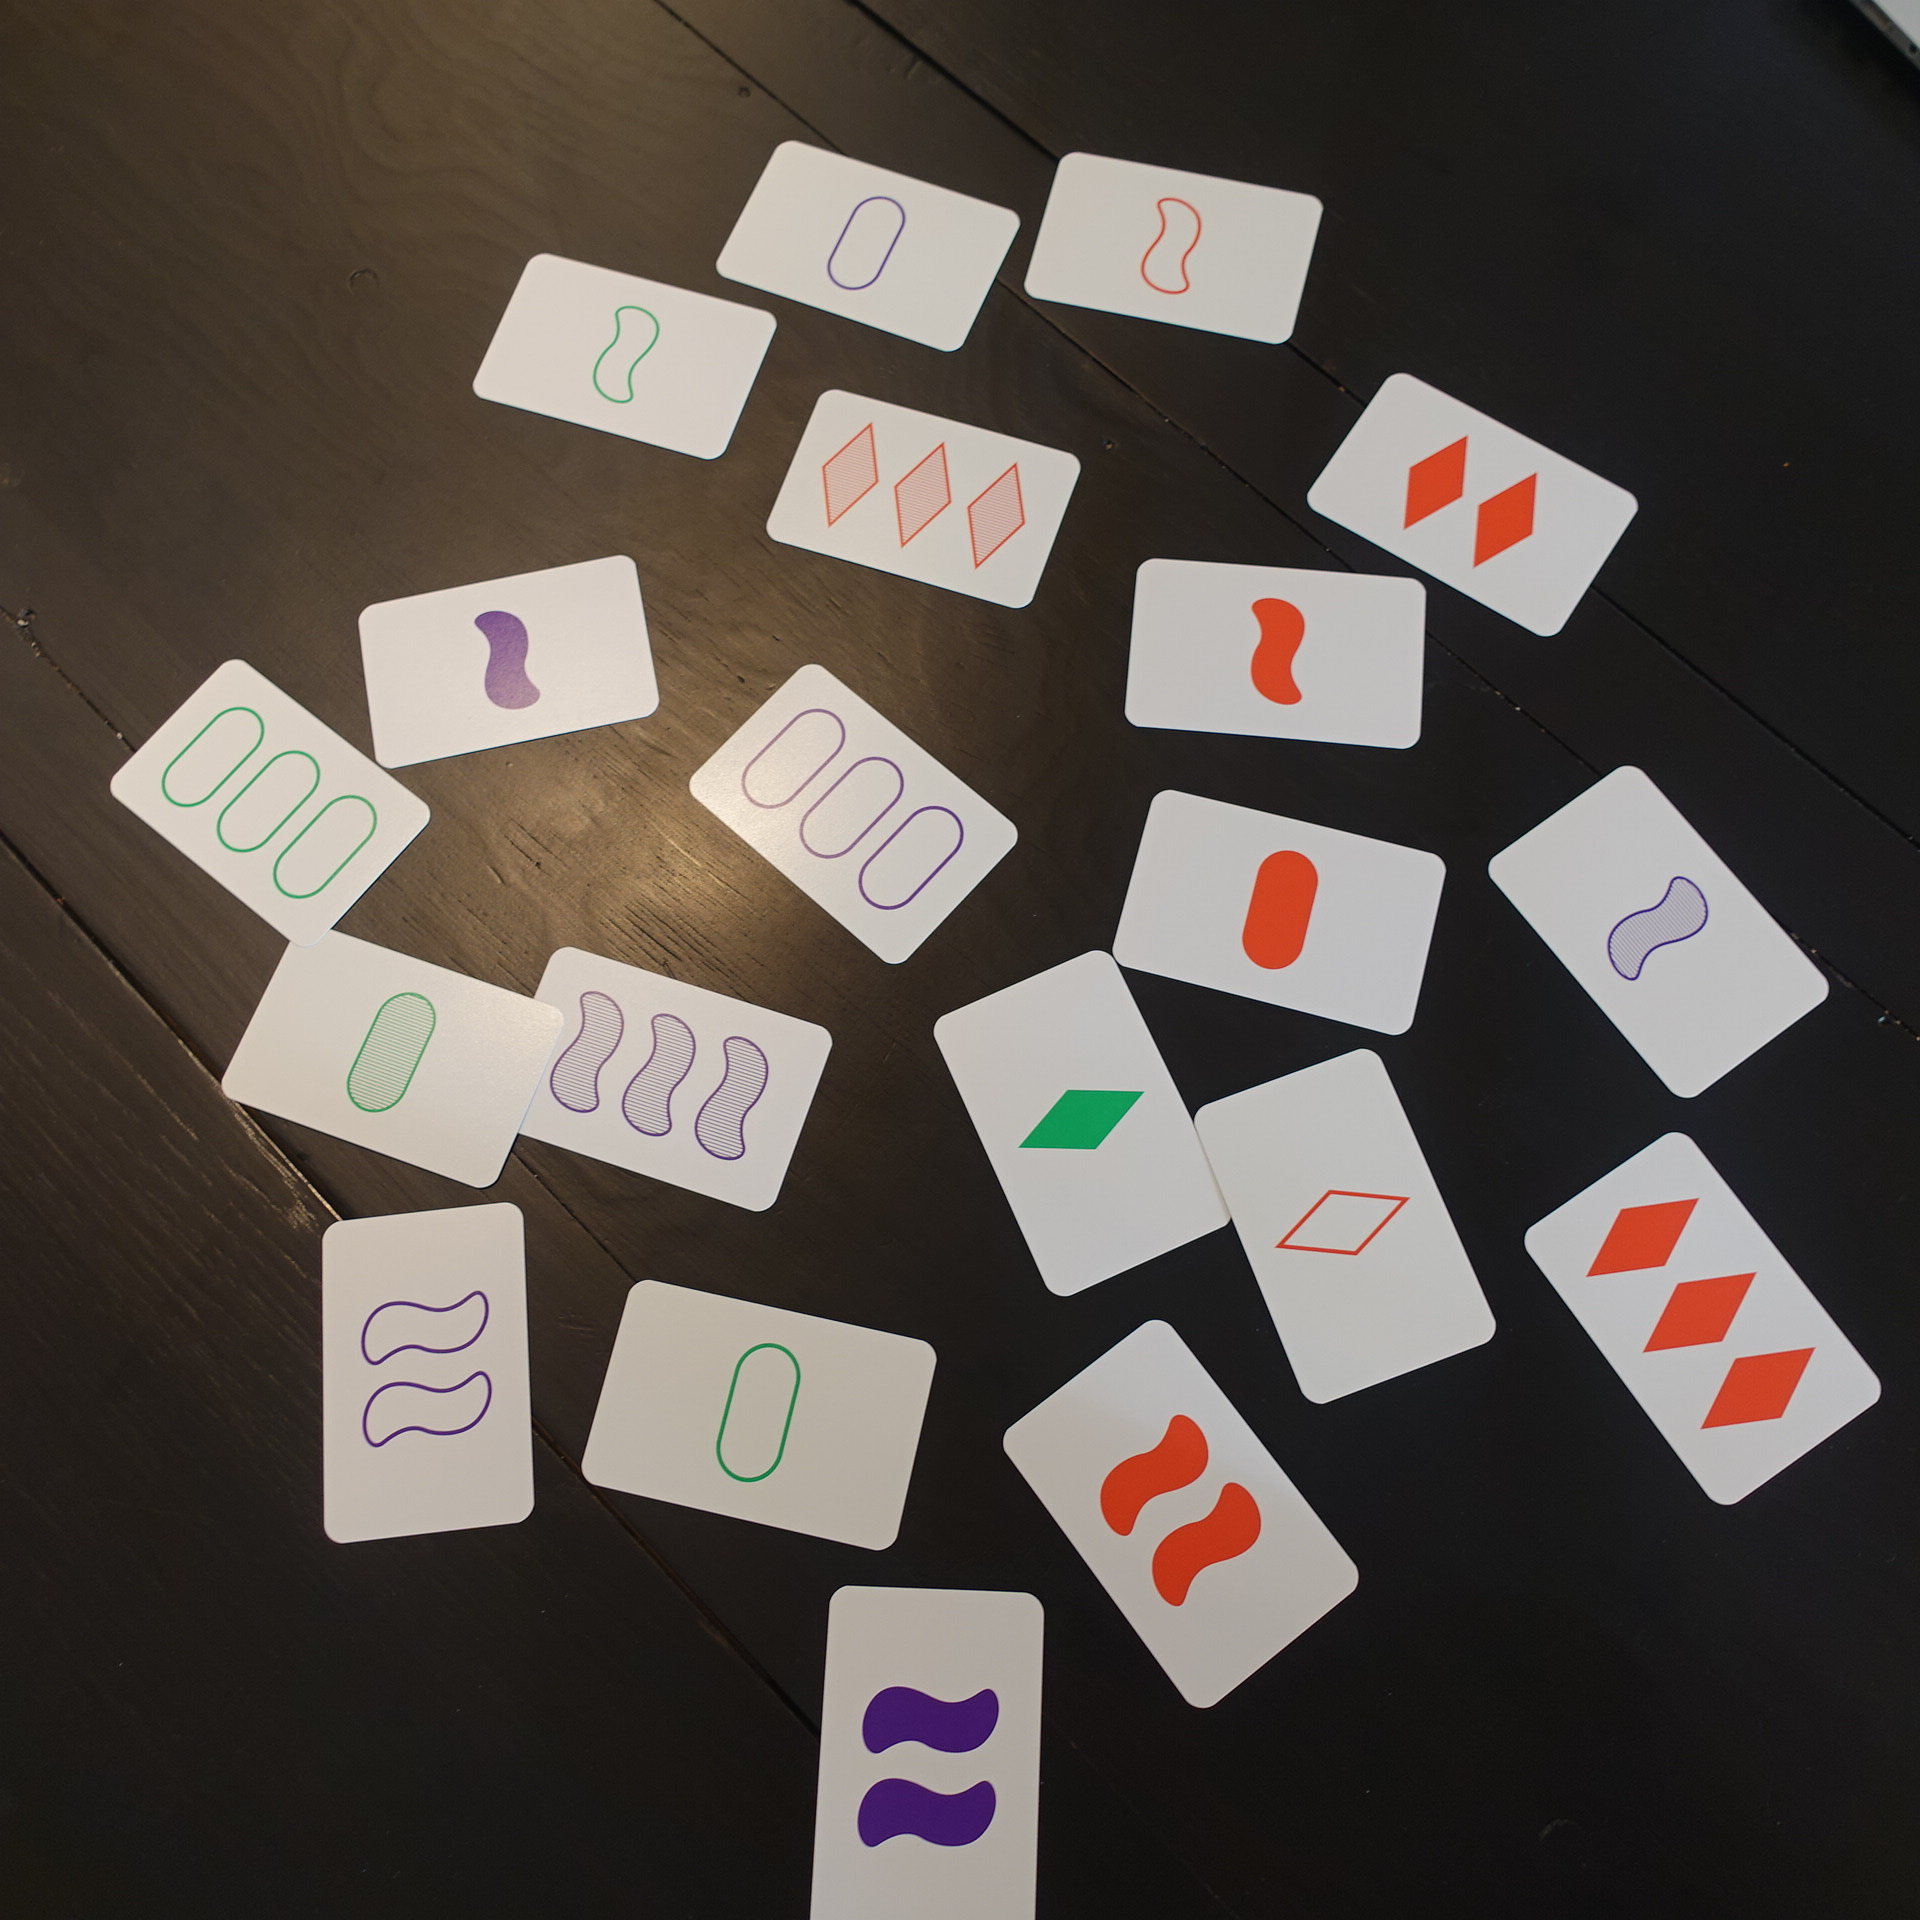c-1-f-d-g: (927, 944, 1236, 1306)
c-1-f-o-g: (1101, 782, 1452, 1046)
c-1-f-s-g: (348, 549, 670, 779), (1111, 542, 1436, 760)
c-1-h-d-g: (1185, 1036, 1505, 1421)
c-1-h-o-g: (216, 921, 575, 1196)
c-1-h-s-g: (1479, 742, 1836, 1108)
c-1-u-o-g: (571, 1269, 944, 1561), (709, 128, 1025, 360)
c-1-u-s-g: (462, 243, 786, 471), (1018, 144, 1333, 357)
c-2-f-d-g: (1301, 362, 1646, 649)
c-2-f-s-g: (995, 1310, 1366, 1718), (795, 1572, 1053, 1915)
c-2-u-s-g: (297, 1192, 543, 1558)
c-3-f-d-g: (1517, 1122, 1892, 1517)
c-3-h-d-g: (756, 375, 1090, 622)
c-3-h-s-g: (515, 941, 837, 1220)
c-3-u-o-g: (682, 651, 1029, 976), (105, 652, 438, 953)
